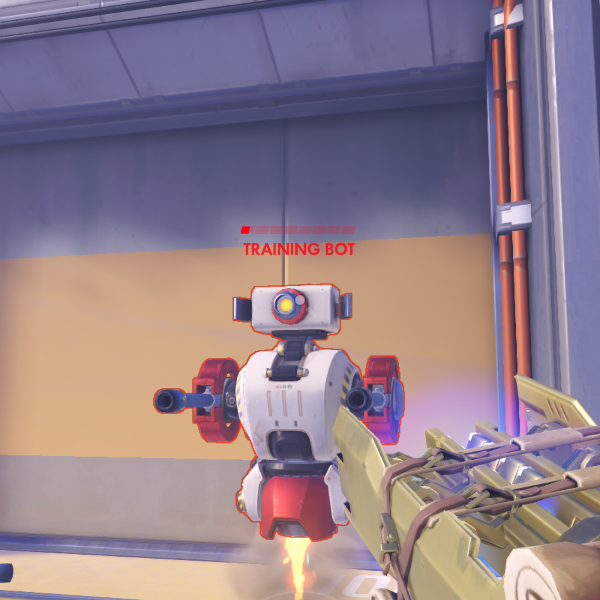hpbar: (240, 225, 357, 235)
